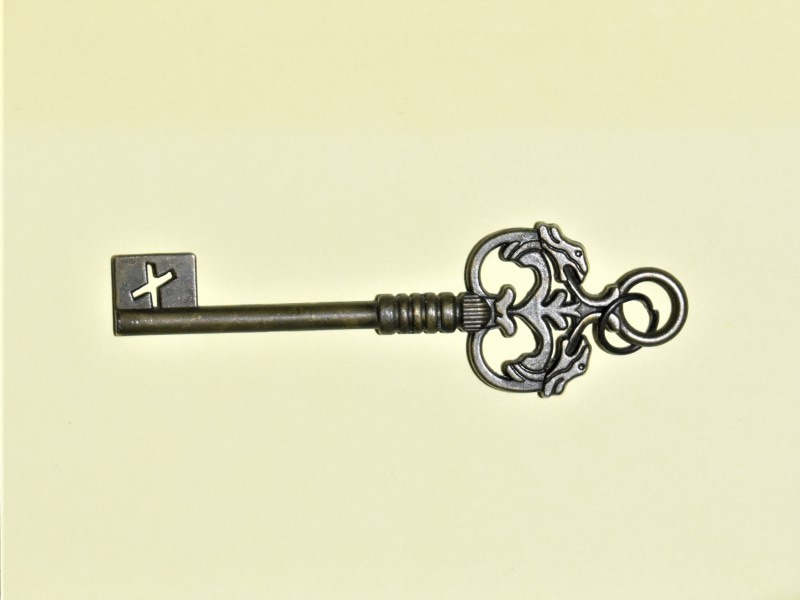key: (105, 221, 690, 401)
